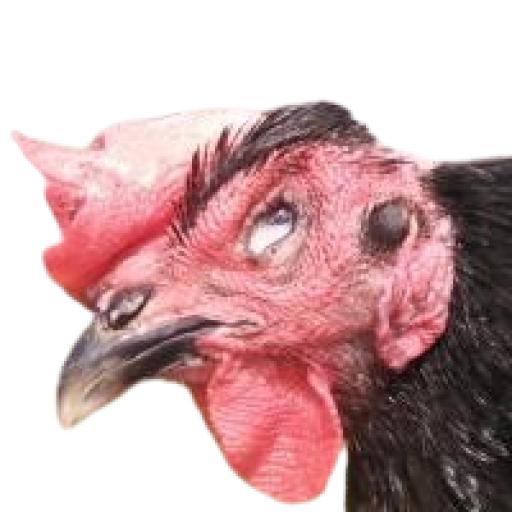disease: (212, 164, 320, 294), (345, 171, 462, 285)
